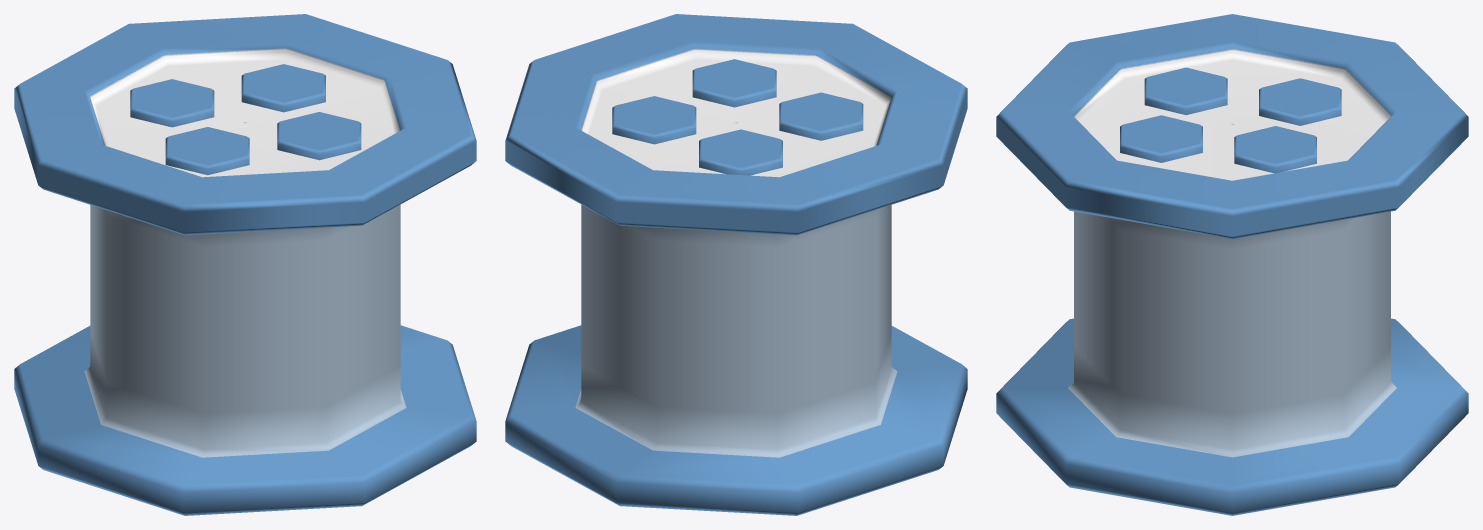
File: Roue_flottante-v2.FBX
3 renders of one model, left to right at view 1: azimuth 30°, elevation 25°; view 2: azimuth 150°, elevation 25°; view 3: azimuth 270°, elevation 25°, orthographic.
Visible parts, largest first — view 1: objetvolant1; view 2: objetvolant1; view 3: objetvolant1.
Part boxes in pixels (box(x1,y1,x2,y2)): objetvolant1: box(14, 14, 476, 515); objetvolant1: box(505, 14, 967, 515); objetvolant1: box(996, 14, 1468, 515).
Size of the model in its own units: 158 by 113 by 158.
